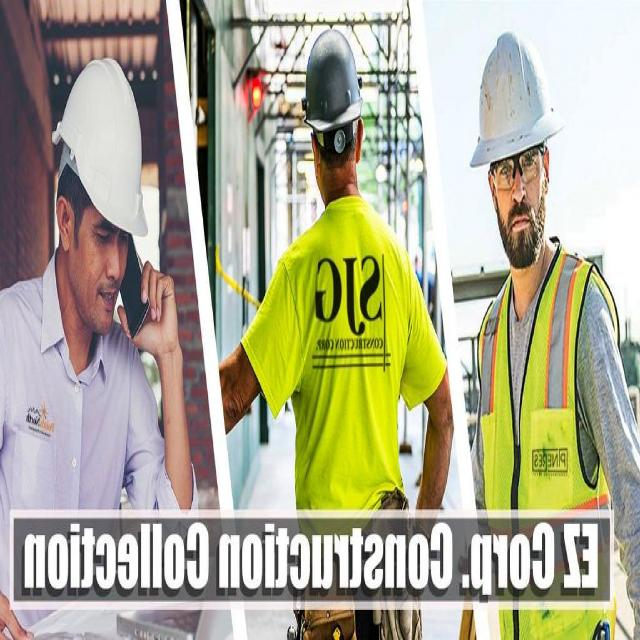Reflective-Jacket: (471, 246, 626, 513)
Safety-Helmet: (52, 52, 152, 237), (468, 23, 564, 176), (299, 23, 366, 134)
